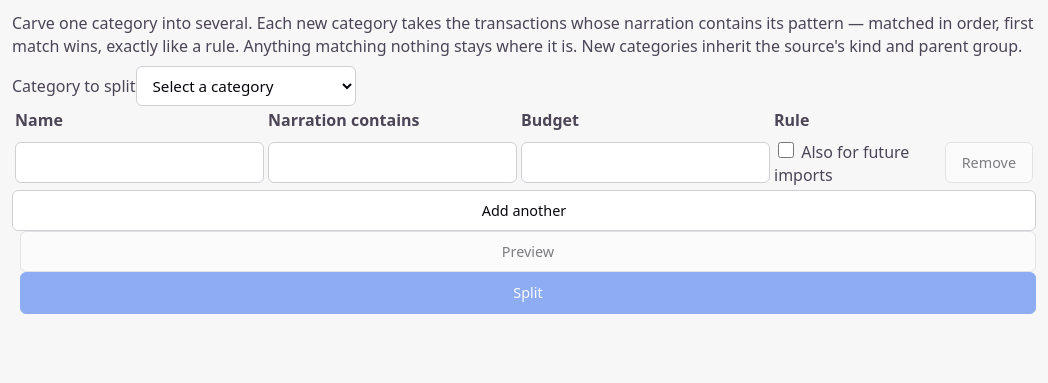
it: CategorySplitter › splits into more than two at once
Click the button "Add another". click: (524, 211)
box: x1=12 y1=190 x2=1036 y2=231
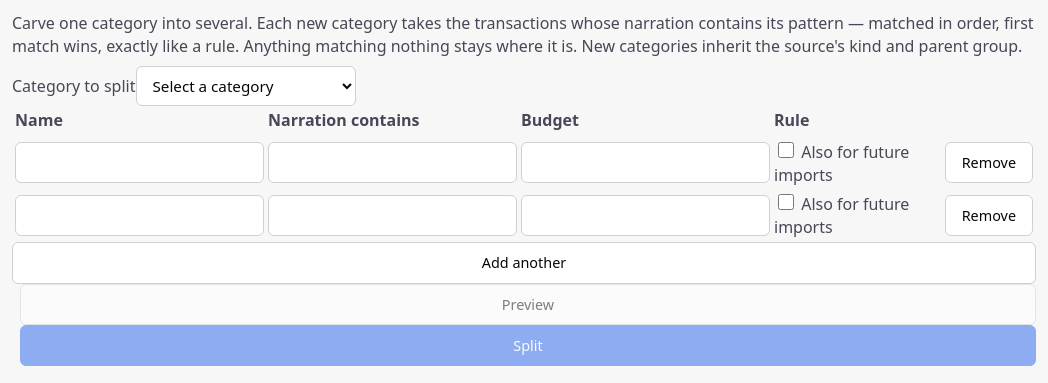
Now the field named "Name for new category 2" is shown, box x1=15 y1=195 x2=264 y2=236
